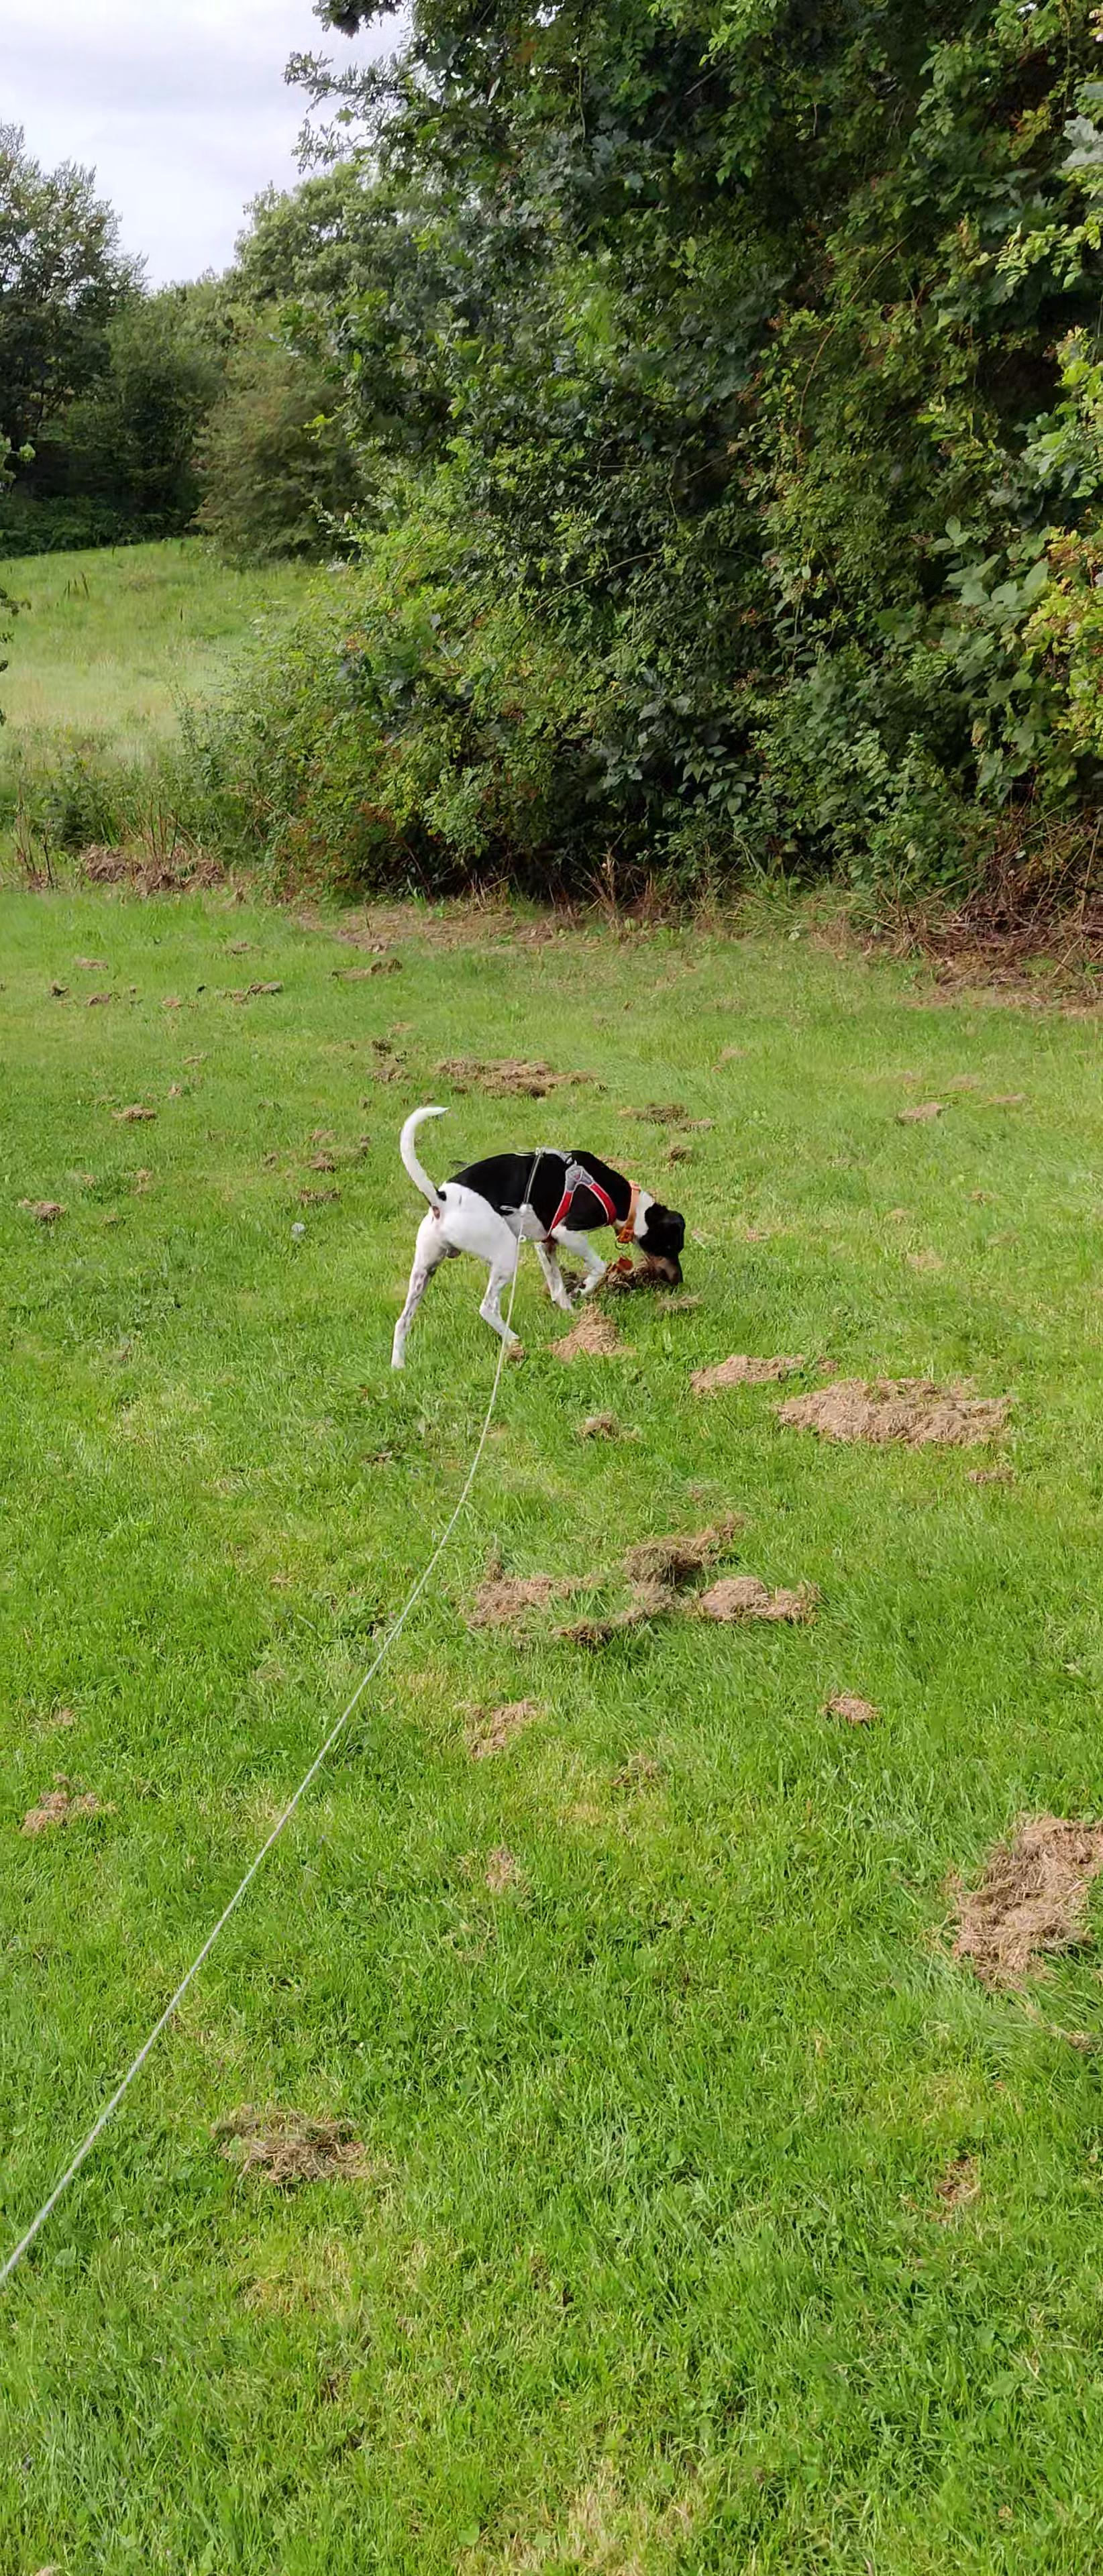Dog: (380, 1089, 694, 1377)
